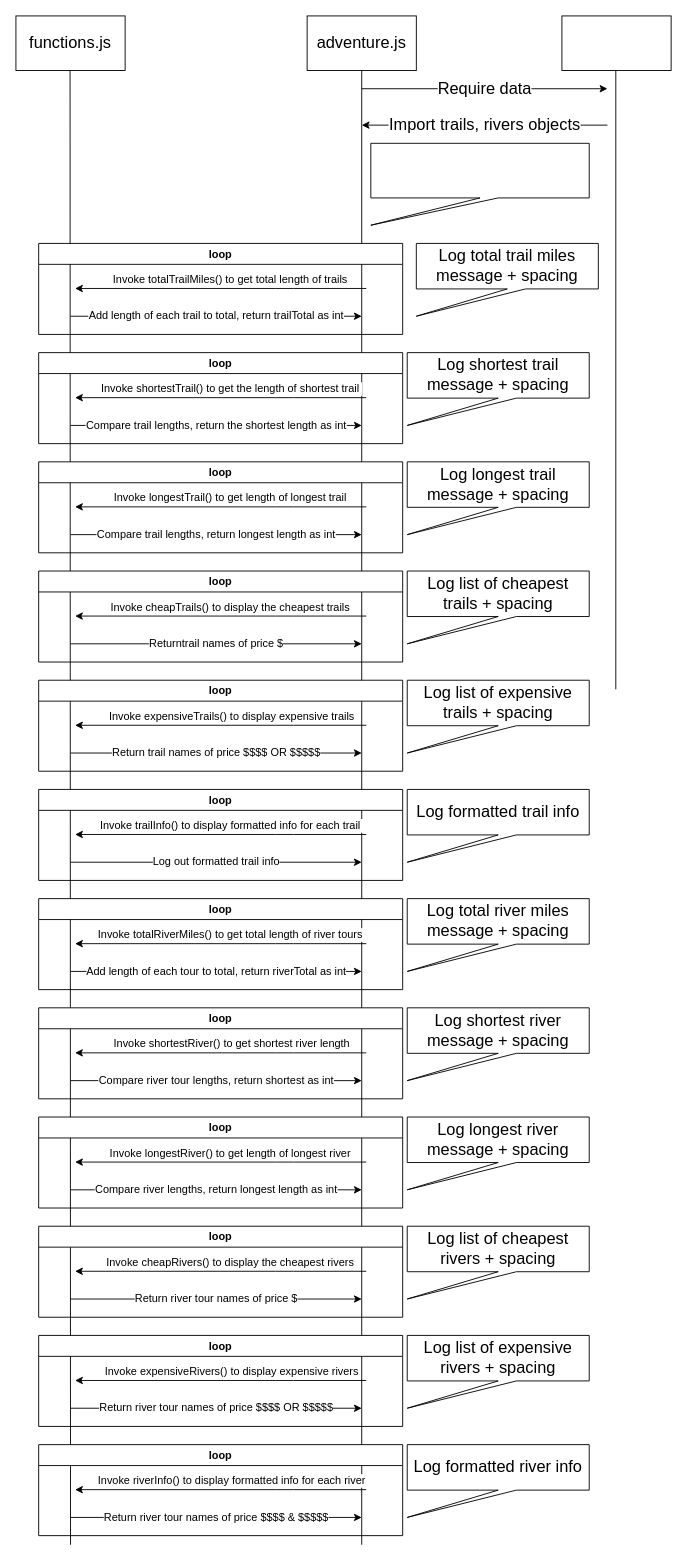
This 687x1562 diagram has some shape labels left out. Each missing label, with the centre of its shape:
"data.js" belongs at pixel 616 43.
"Log ascii-art banner Log Trails header" belongs at pixel 479 183.
